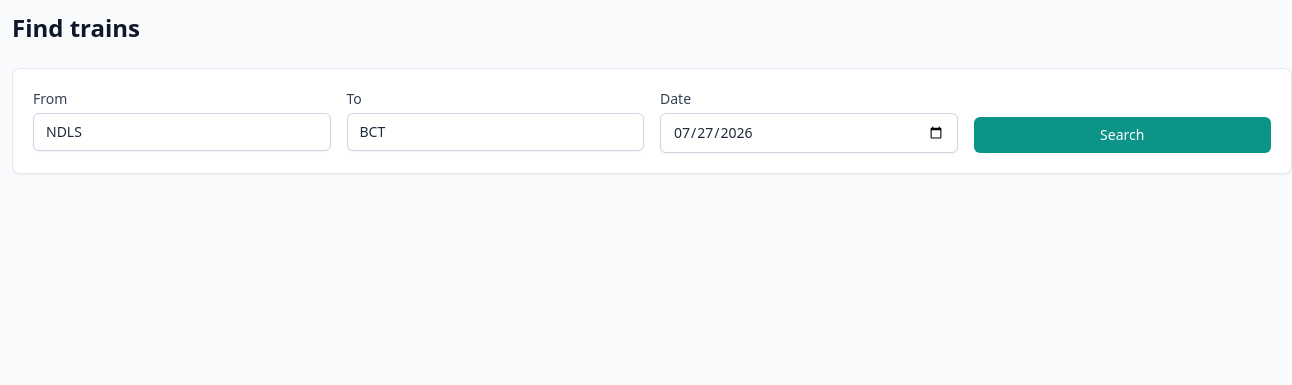
Test: SearchPage › shows an empty state when no trains match
The width and height of the screenshot is (1292, 385).
Click the button "Search".
click(1122, 135)  # box x1=974 y1=117 x2=1271 y2=153
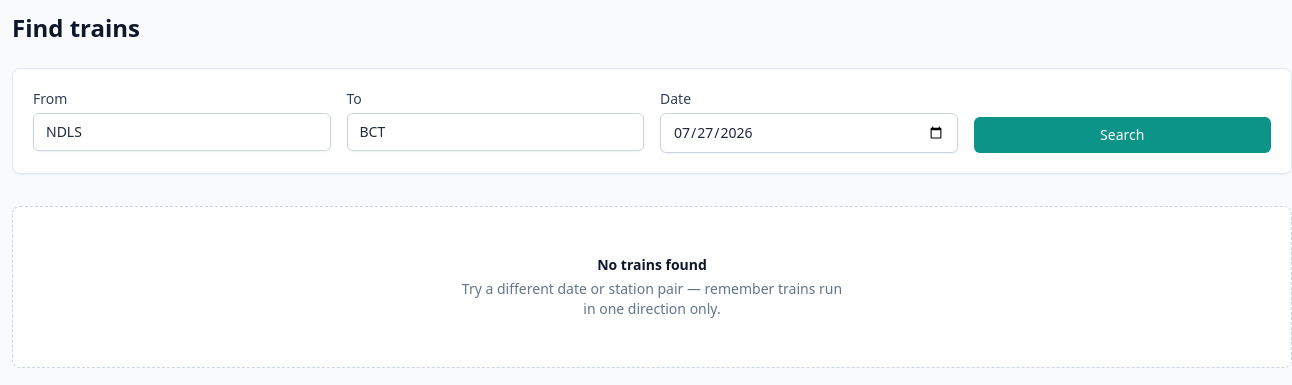
Expected: the heading "No trains found" is shown, x1=597 y1=255 x2=707 y2=274
